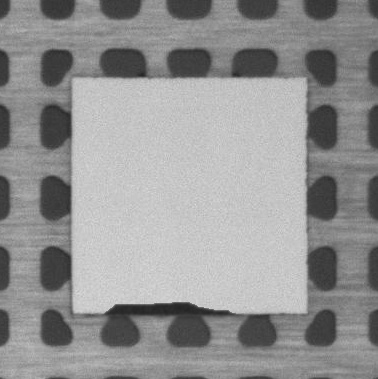DIE_BROKEN: (100, 301, 237, 316)
